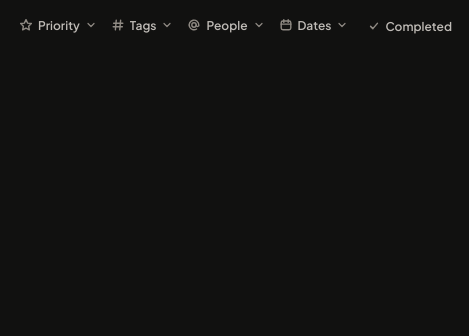
Test case: the filter pickers’ clear × › the top bar People picker: Search... gets a × while it has text; a click empties it and keeps the focus there
Click the button with aria-label "People filter": click(226, 25) left=180, top=12, right=272, bottom=38
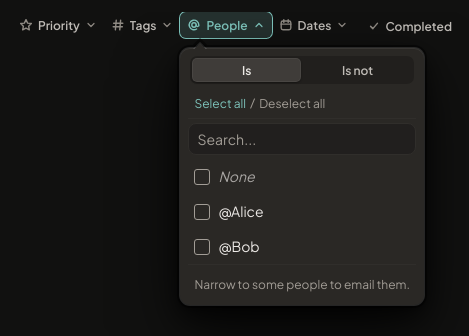
In the field with placeholder "Search...": (302, 139) left=188, top=123, right=416, bottom=155, type "ali"
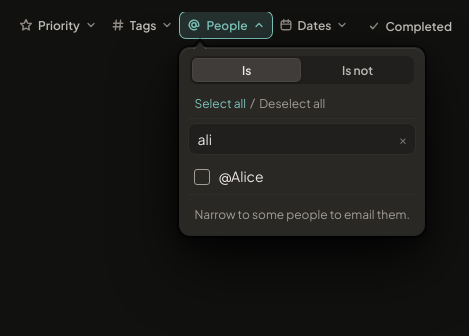
Expected: the option "Bob" is gone
Click the button named "Clear search": click(403, 139) left=395, top=131, right=411, bottom=147
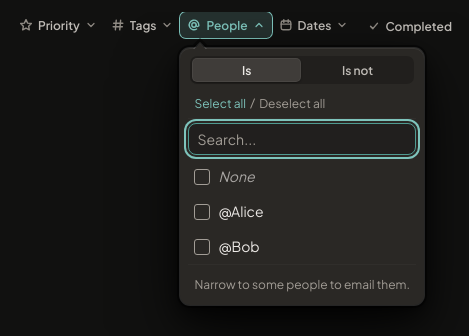
Expected: the field with placeholder "Search..." is empty, left=188, top=123, right=416, bottom=155
Expected: the option "@Bob" is shown, left=194, top=237, right=260, bottom=255
